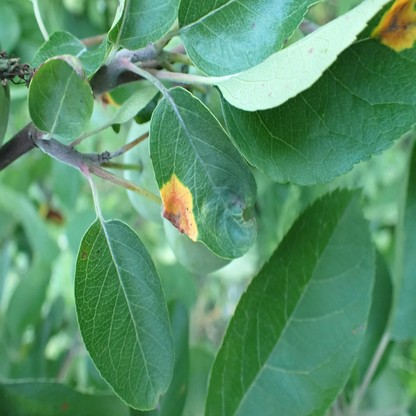frogeye_leaf_spot: (83, 253, 86, 259)
rust: (161, 176, 199, 243), (372, 0, 416, 54), (98, 91, 119, 110)
